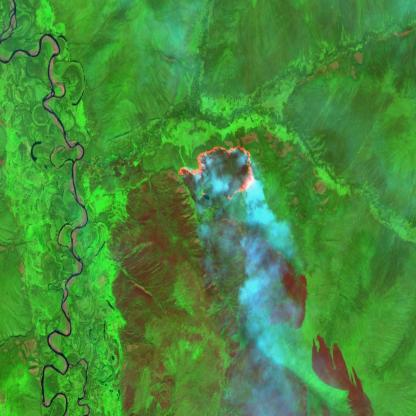fire: (177, 141, 258, 203)
